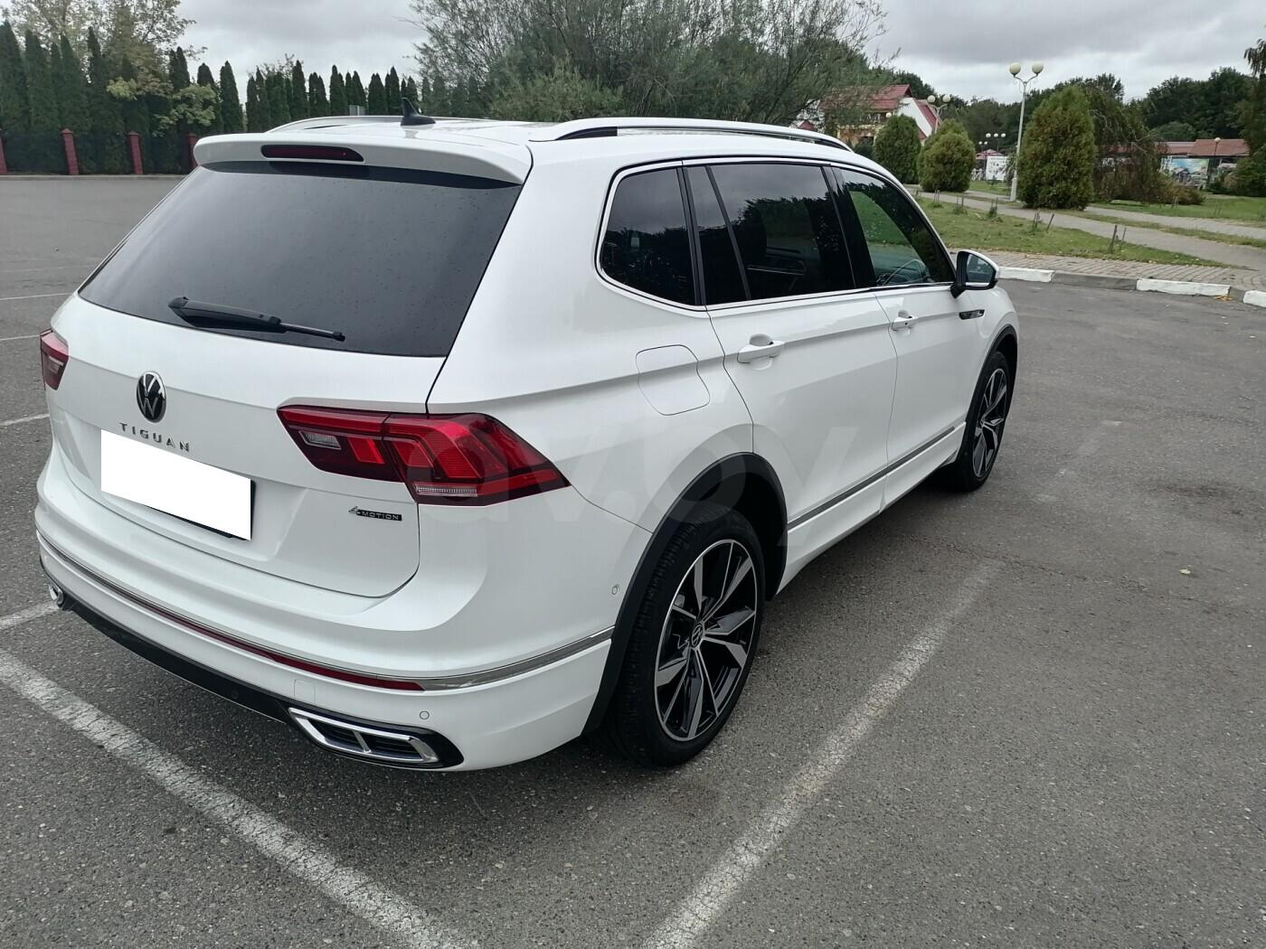Tiguan_2020-2024: (30, 108, 1023, 777)
